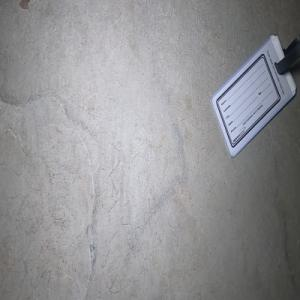LuggageTag: (209, 33, 300, 160)
